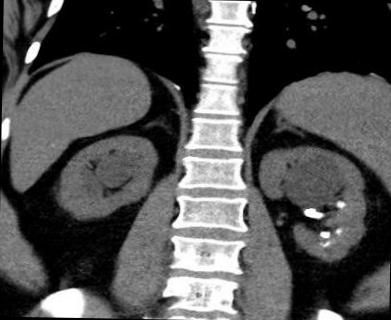Tas_Var: (297, 205, 327, 221), (332, 198, 347, 212), (314, 240, 336, 249), (315, 230, 333, 240), (331, 226, 346, 236)
